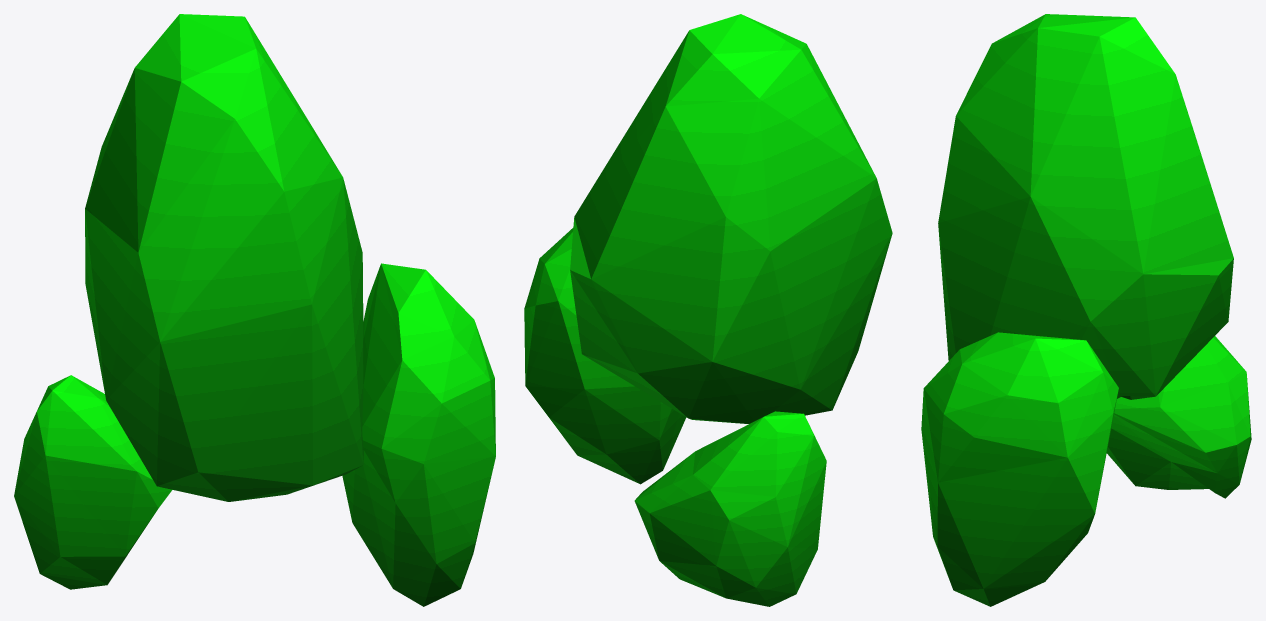
The model's file is Prefab_Foliage_Tree_Birch_Leaves_A.glb.
3 renders of one model, left to right at view 1: azimuth 30°, elevation 25°; view 2: azimuth 150°, elevation 25°; view 3: azimuth 270°, elevation 25°, orthographic. The views are drawn at different scales.
Parts seen in each view (by area): view 1: Foliage_Birch_C.003; view 2: Foliage_Birch_C.003; view 3: Foliage_Birch_C.003.
Boxes of the visible parts, x1,y1,x2,y2 form: Foliage_Birch_C.003: (14, 14, 495, 606); Foliage_Birch_C.003: (524, 14, 892, 606); Foliage_Birch_C.003: (921, 14, 1251, 606).
Size of the model in its own units: 4.95 by 7.17 by 4.18.
Materials: 1 (1 with a texture image).
